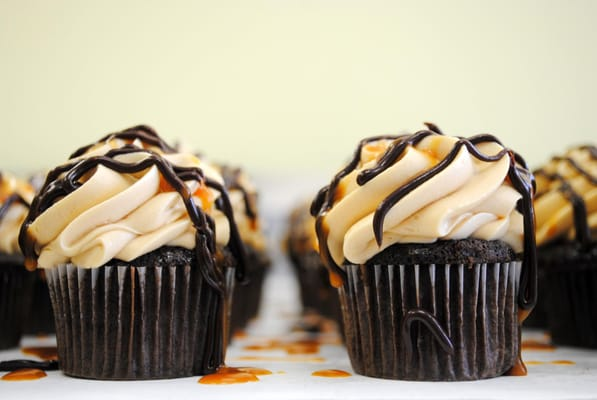curry: (320, 126, 538, 382), (323, 126, 538, 288)
sushi: (314, 129, 534, 381)
